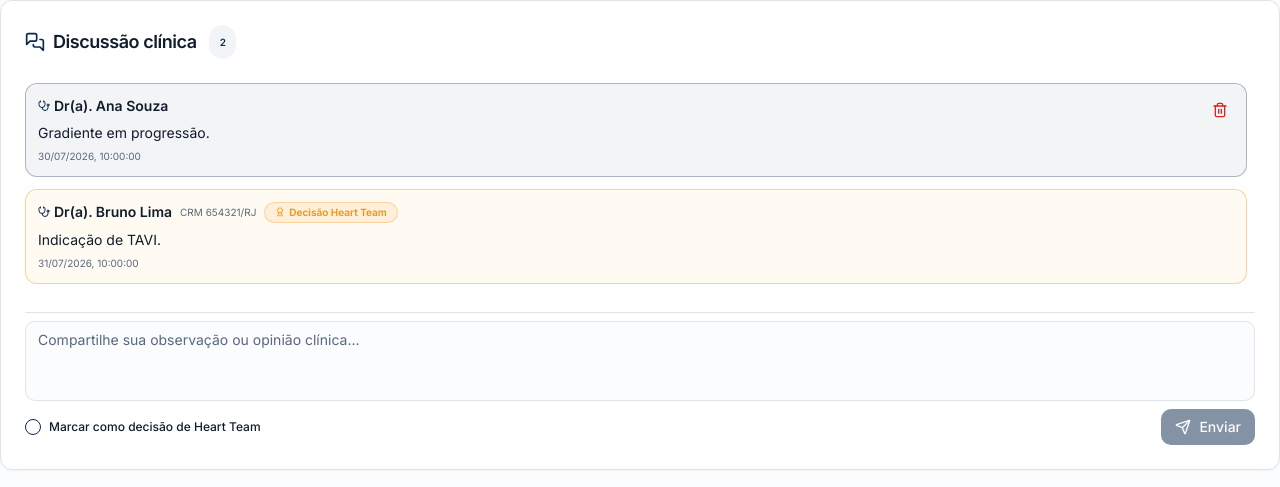
Scenario: CaseDiscussion › excluir faz soft-delete e registra auditoria
This screenshot has width=1280, height=487.
Expected: the text "Gradiente em progressão." is shown, left=38, top=124, right=210, bottom=141
Step 1. Click the 1st button → (1220, 110), box left=1206, top=96, right=1234, bottom=124
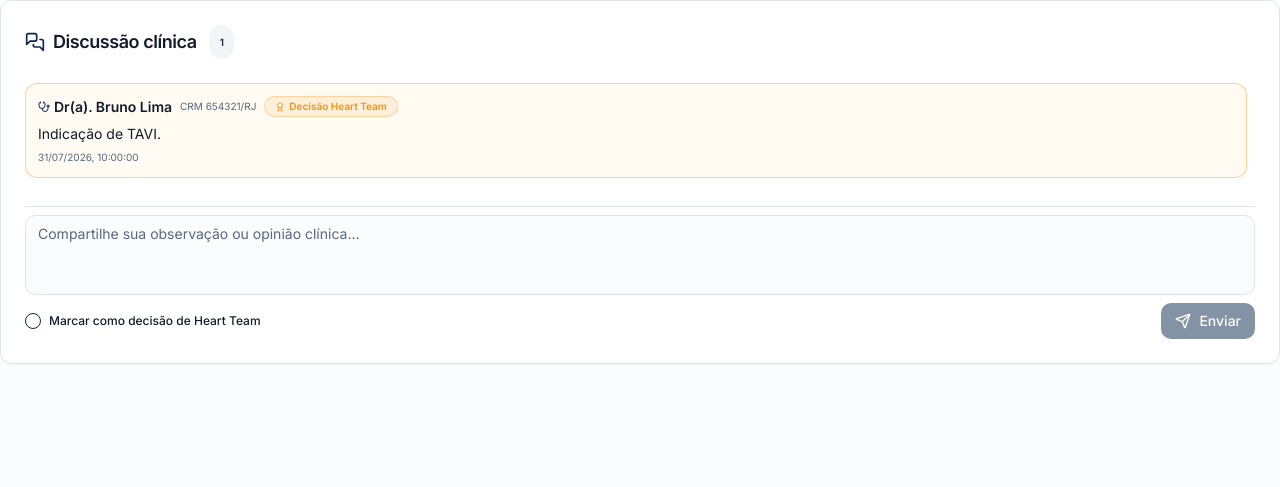
Expected: the text "Gradiente em progressão." is gone
